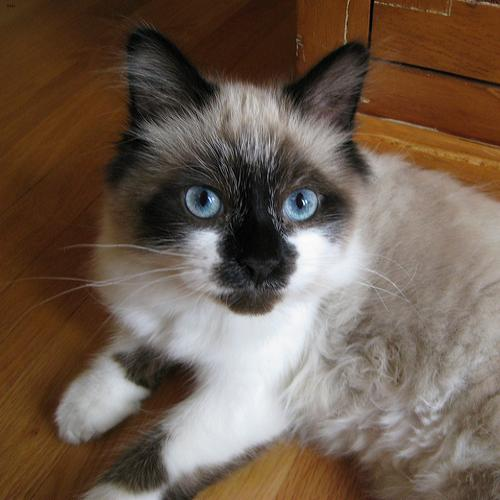ragdoll: (99, 20, 385, 342)
